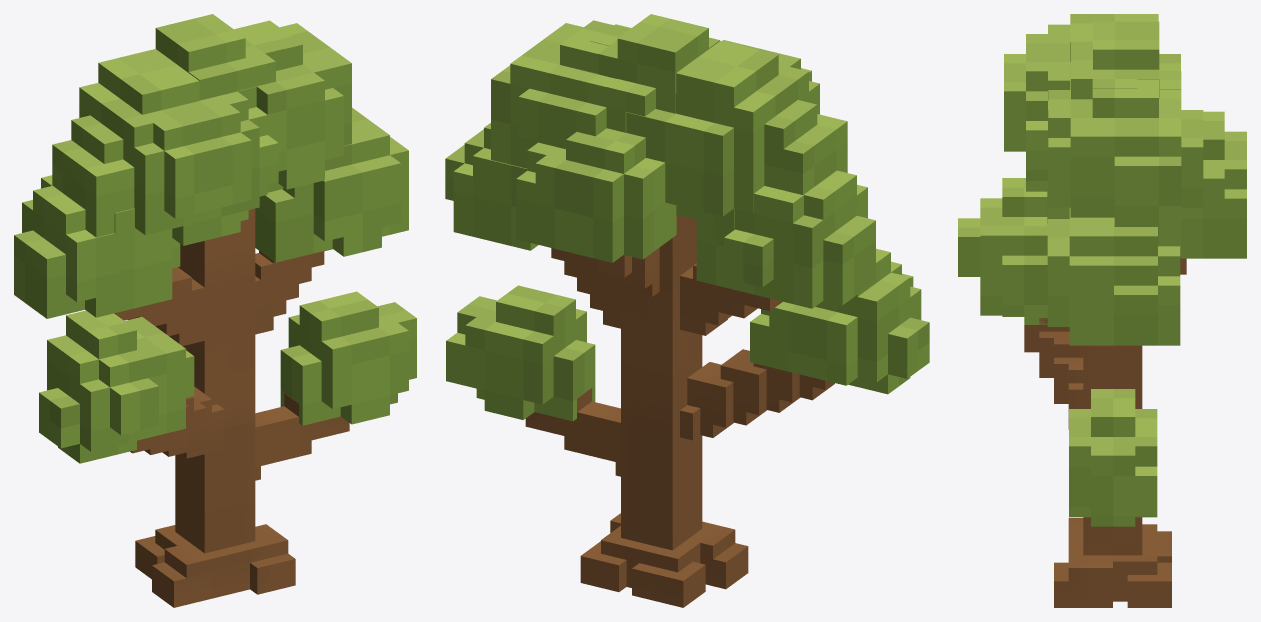
The model's file is SM_VMF_Nature_Tree_Broadleaf.fbx.
3 renders of one model, left to right at view 1: azimuth 30°, elevation 25°; view 2: azimuth 150°, elevation 25°; view 3: azimuth 270°, elevation 25°, orthographic.
Visible parts, largest first — view 1: SM_VMF_Nature_Tree_Broadleaf_Canopy, SM_VMF_Nature_Tree_Broadleaf_TrunkAndBranches; view 2: SM_VMF_Nature_Tree_Broadleaf_Canopy, SM_VMF_Nature_Tree_Broadleaf_TrunkAndBranches; view 3: SM_VMF_Nature_Tree_Broadleaf_Canopy, SM_VMF_Nature_Tree_Broadleaf_TrunkAndBranches.
Part boxes in pixels (left/top/right/bottom): SM_VMF_Nature_Tree_Broadleaf_Canopy: left=14, top=14, right=416, bottom=463; SM_VMF_Nature_Tree_Broadleaf_TrunkAndBranches: left=114, top=208, right=349, bottom=607; SM_VMF_Nature_Tree_Broadleaf_Canopy: left=445, top=14, right=929, bottom=421; SM_VMF_Nature_Tree_Broadleaf_TrunkAndBranches: left=525, top=215, right=834, bottom=607; SM_VMF_Nature_Tree_Broadleaf_Canopy: left=958, top=14, right=1246, bottom=526; SM_VMF_Nature_Tree_Broadleaf_TrunkAndBranches: left=1024, top=249, right=1186, bottom=607.
Bounding box in the file's own units: 252 × 325 × 157.
1 material, 1 textured.
